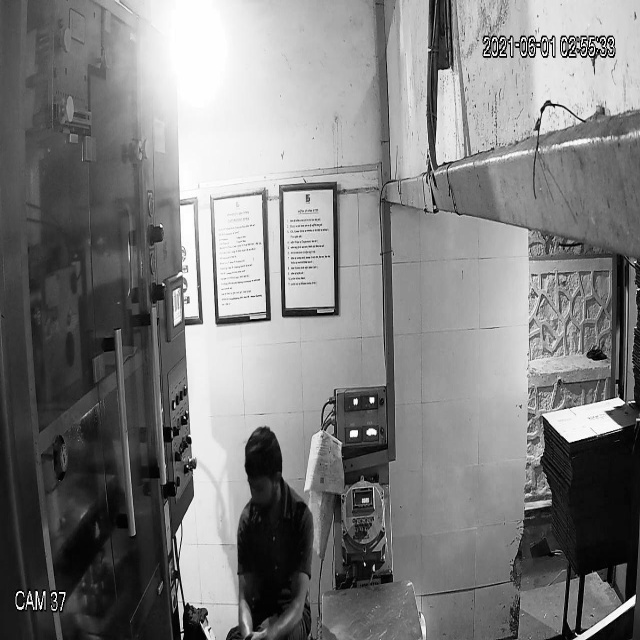Sin_gafas: (242, 470, 282, 502)
